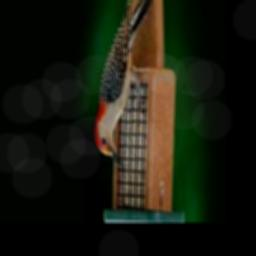Woodpecker: (94, 0, 153, 169)
